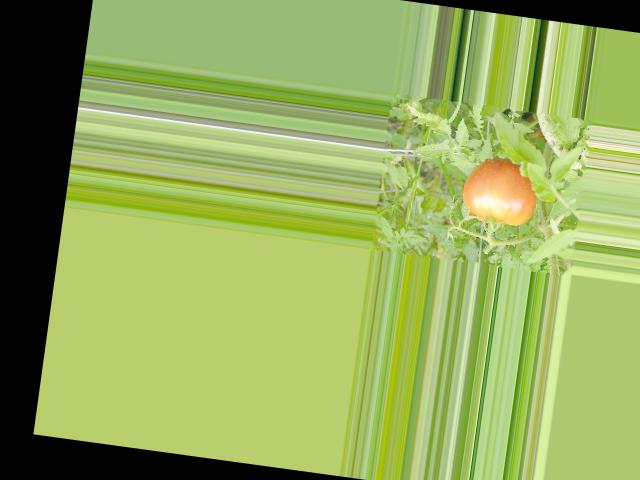tomato: (459, 154, 540, 229)
